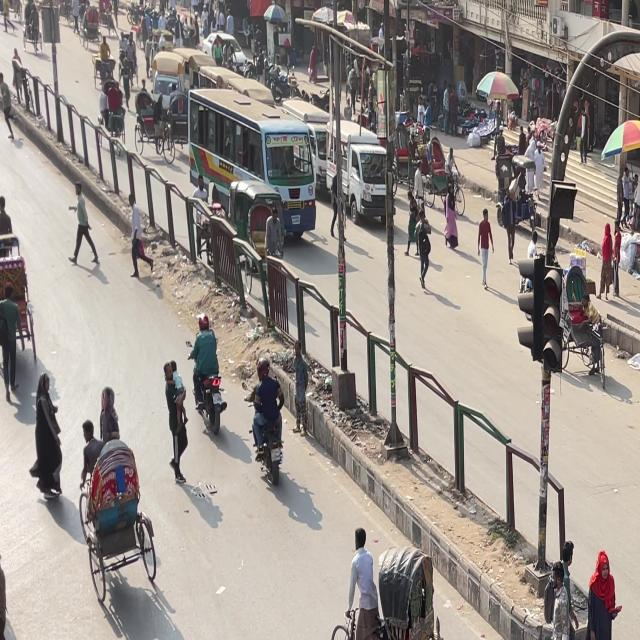motorbike: (243, 378, 295, 499), (183, 335, 229, 431), (0, 598, 60, 640)
